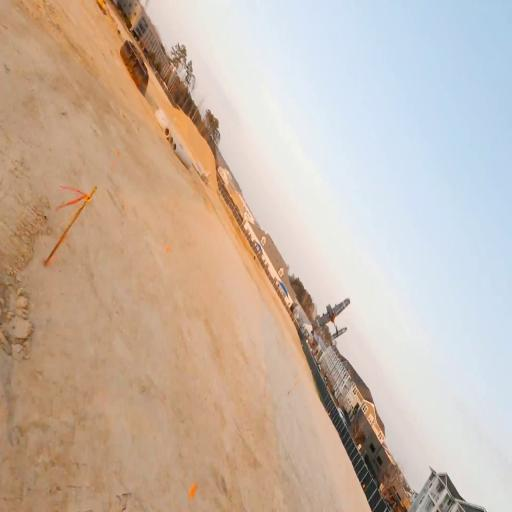uav: (308, 290, 355, 352)
